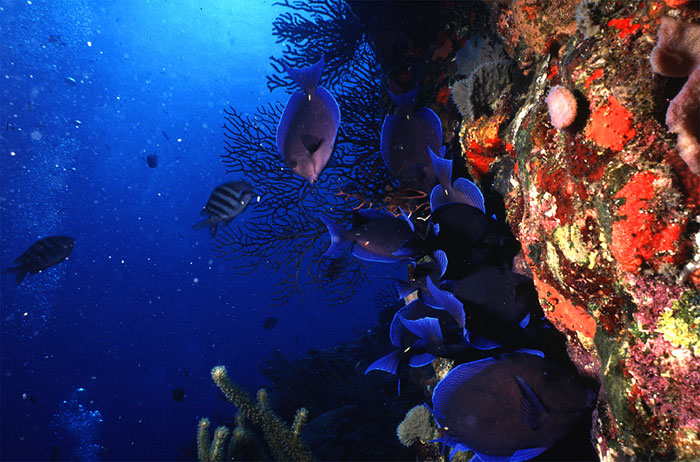Acanthurus_coeruleus: (275, 57, 339, 186)
